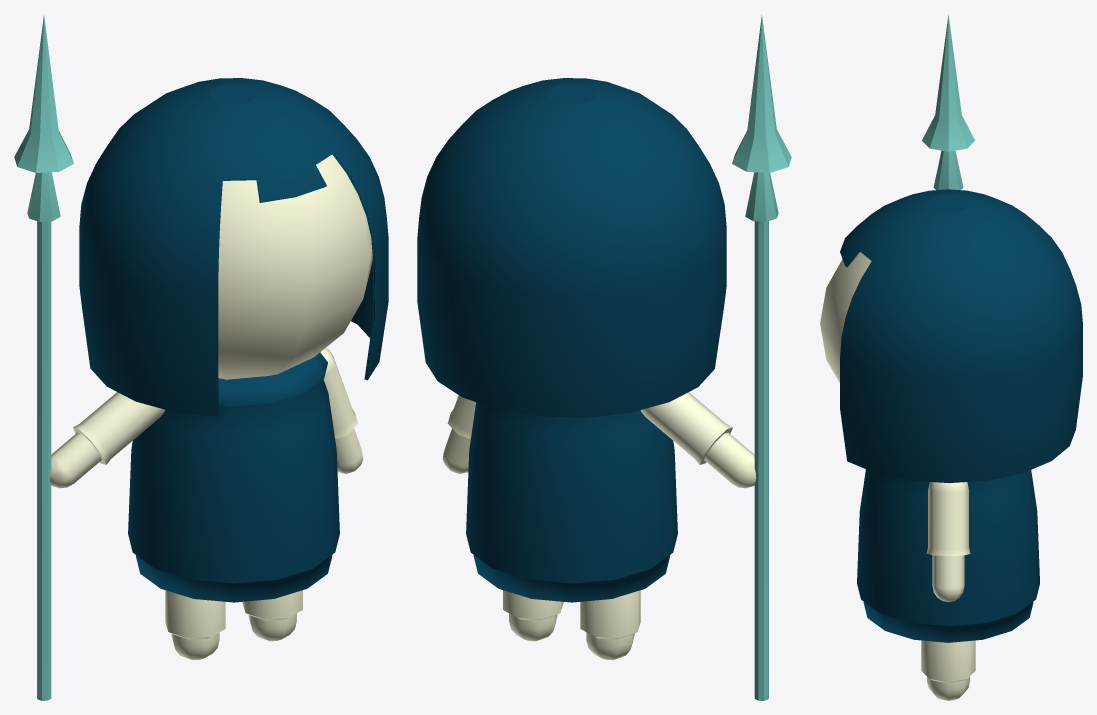
The model's file is BlueNormalSoldier.fbx.
3 renders of one model, left to right at view 1: azimuth 30°, elevation 25°; view 2: azimuth 150°, elevation 25°; view 3: azimuth 270°, elevation 25°, orthographic. The views are drawn at different scales.
Parts seen in each view (by area): view 1: M_Arm_Right4; view 2: M_Arm_Right4; view 3: M_Arm_Right4.
Boxes of the visible parts, x1,y1,x2,y2 form: M_Arm_Right4: (14, 15, 388, 700); M_Arm_Right4: (417, 15, 791, 700); M_Arm_Right4: (820, 14, 1082, 700).
Bounding box in the file's own units: 54.61 × 102 × 40.92.
